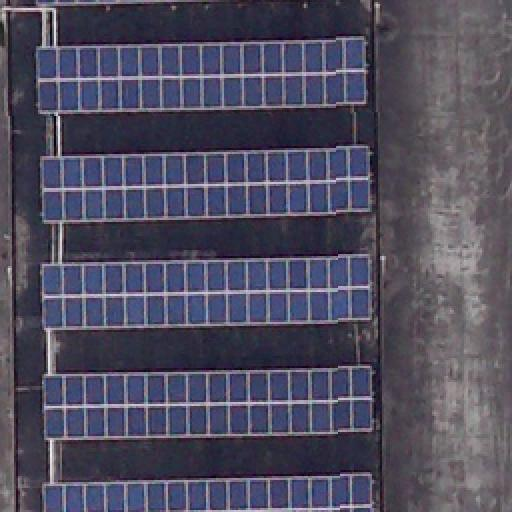solar-panel: (35, 37, 365, 115), (39, 146, 369, 222), (42, 256, 370, 328), (45, 364, 371, 436), (38, 474, 370, 510), (36, 0, 128, 4)
